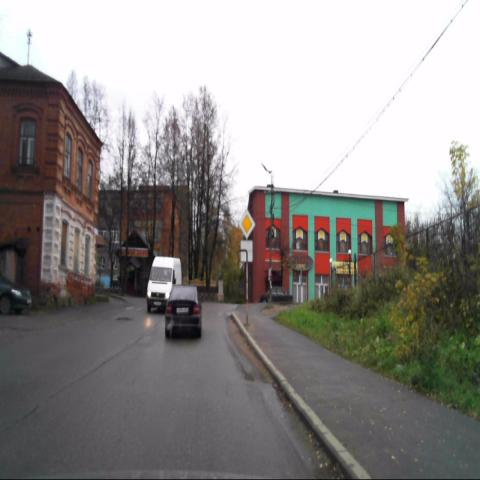2_1: (238, 208, 255, 238)
8_13: (240, 239, 253, 262)
